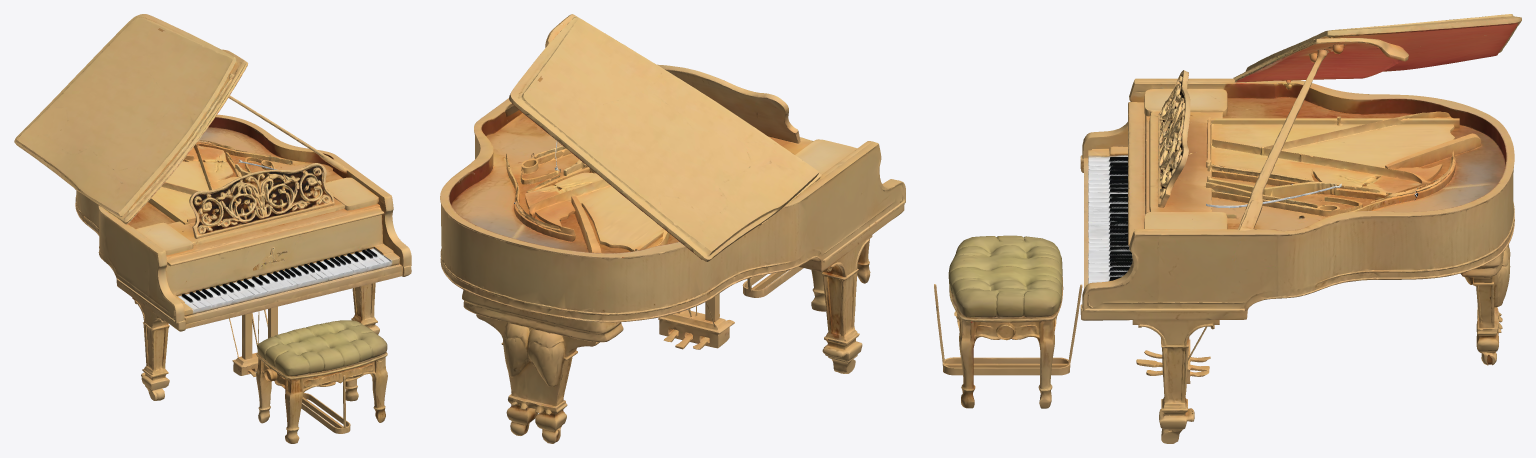
The model's file is piano.glb.
3 renders of one model, left to right at view 1: azimuth 30°, elevation 25°; view 2: azimuth 150°, elevation 25°; view 3: azimuth 270°, elevation 25°, orthographic. The views are drawn at different scales.
Visible parts, largest first — view 1: model; view 2: model; view 3: model.
Boxes of the visible parts, x1,y1,x2,y2 form: model: [14, 14, 411, 443]; model: [440, 14, 905, 443]; model: [934, 14, 1521, 443].
Size of the model in its own units: 1.25 by 1.31 by 1.9.
1 material, 1 textured.
